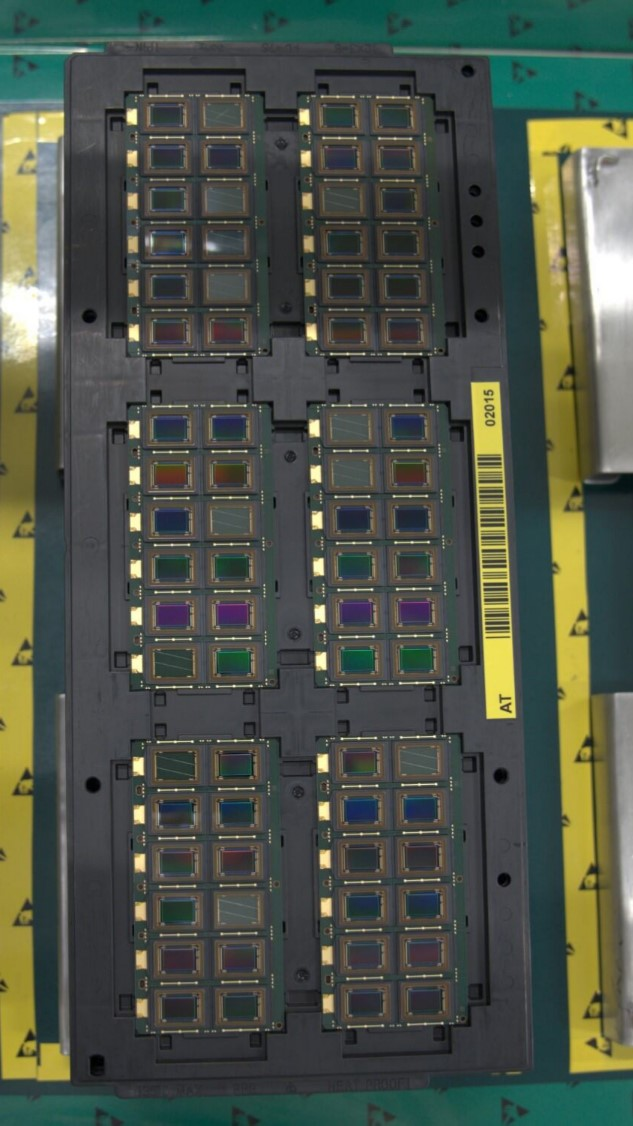Bad_mark_from_BMS_mold: (325, 452, 378, 492), (145, 645, 202, 682), (391, 742, 446, 780), (204, 501, 258, 539), (211, 891, 265, 929), (322, 409, 376, 446), (149, 748, 203, 784), (200, 224, 252, 261), (316, 181, 366, 219), (199, 182, 250, 219), (197, 97, 248, 133), (201, 268, 252, 303)
